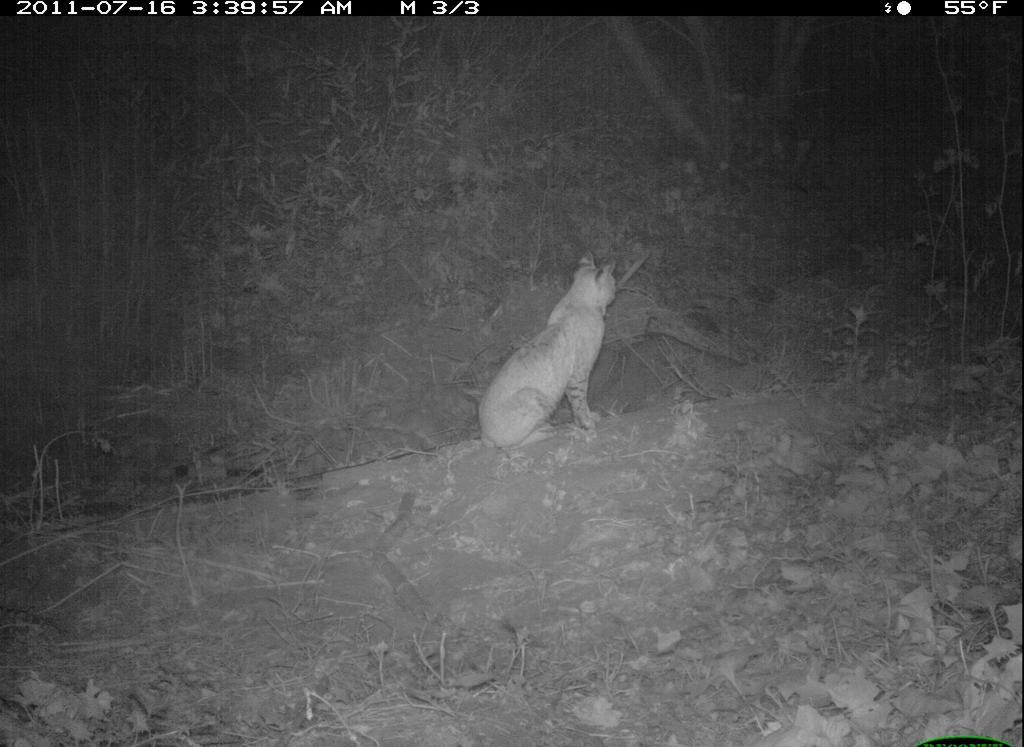bobcat: (465, 235, 635, 466)
